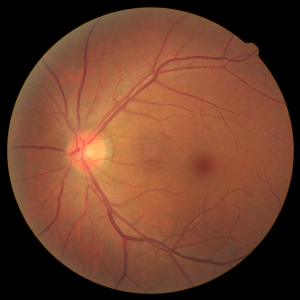healthy_eye: (30, 100, 226, 217)
